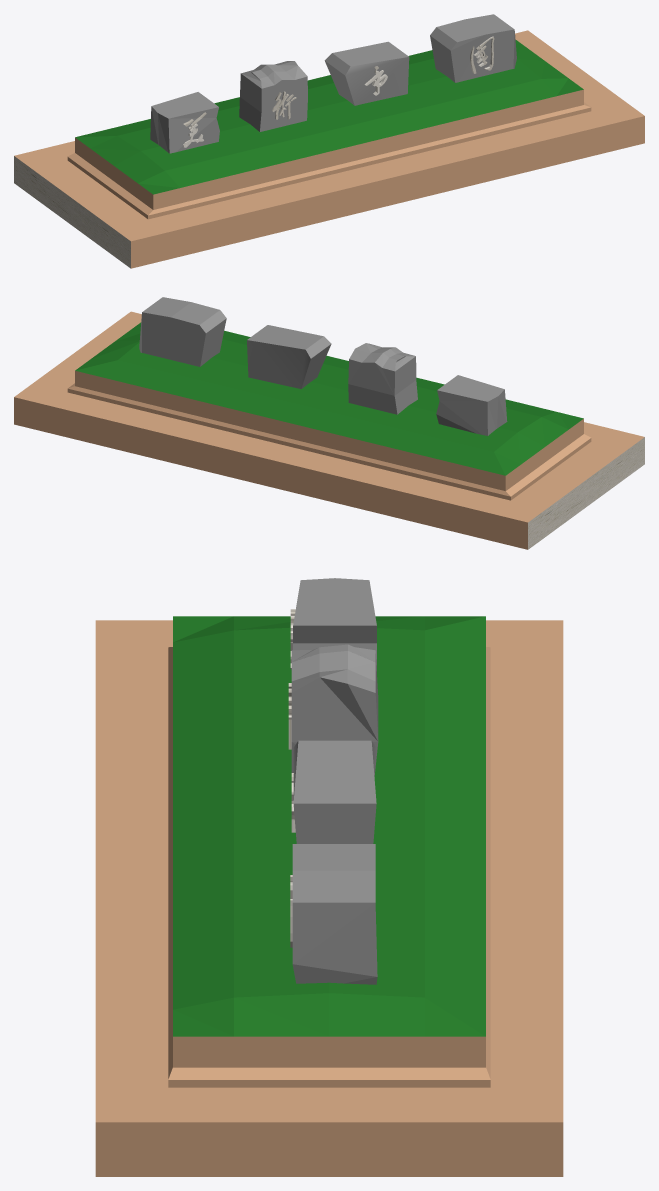
File: shibei.FBX
3 renders of one model, top to bottom at view 1: azimuth 30°, elevation 25°; view 2: azimuth 150°, elevation 25°; view 3: azimuth 270°, elevation 25°, orthographic. The views are drawn at different scales.
Parts seen in each view (by area): view 1: Box002 (×2), Box004, Box003, Box001, Object115; view 2: Box002 (×2), Box004, Box003, Box001; view 3: Box002 (×2), Box004, Box003, Box001.
Part boxes in pixels (x1,y1,x2,y2): Box002 (×2): (14,30,644,268); Box004: (430,14,516,82); Box003: (324,41,409,105); Box001: (150,92,219,153); Object115: (470,36,494,73); Box002 (×2): (14,311,644,549); Box004: (139,297,226,366); Box003: (247,325,331,389); Box001: (436,375,507,435); Box002 (×2): (95,616,563,1176); Box004: (292,844,377,984); Box003: (293,740,376,843); Box001: (293,578,376,670).
Bounding box in the file's own units: 3882 × 788 × 1530.
